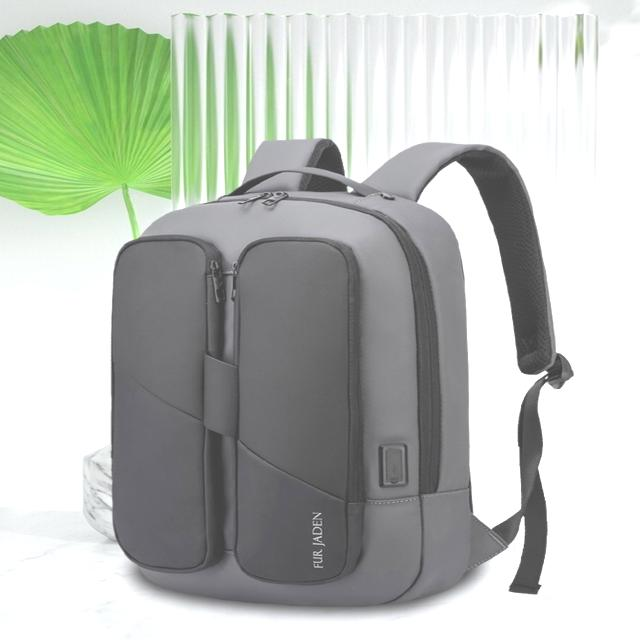backpack: (110, 140, 574, 609)
